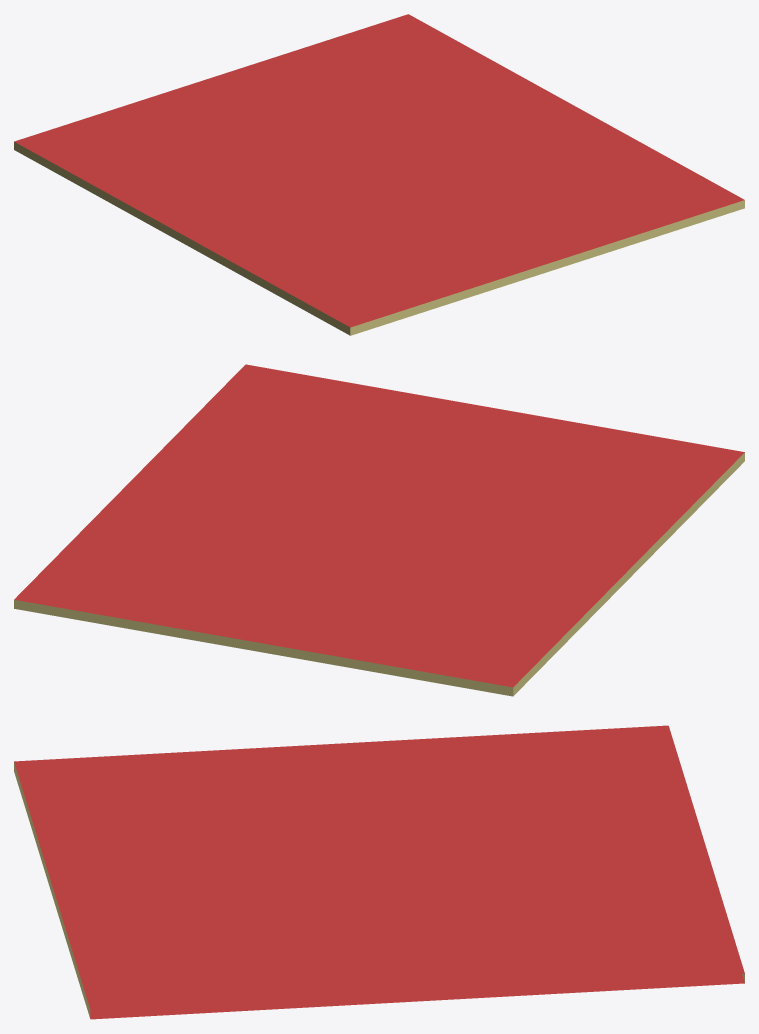
The picture shows the model from 3 angles, top to bottom: view 1: azimuth 30°, elevation 25°; view 2: azimuth 150°, elevation 25°; view 3: azimuth 270°, elevation 25°; orthographic projection. The views are drawn at different scales.
Size of the model in its own units: 6.12 by 6.66 by 0.1.
